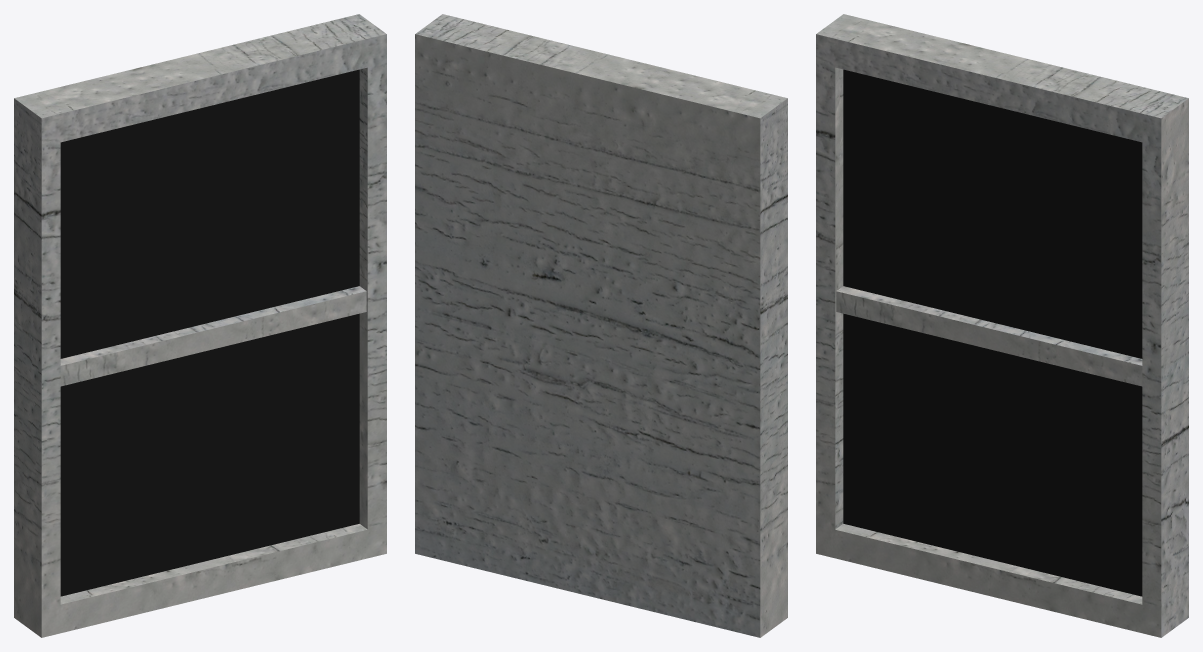
The model's file is window3.FBX.
The picture shows the model from 3 angles, left to right: view 1: azimuth 30°, elevation 25°; view 2: azimuth 150°, elevation 25°; view 3: azimuth 330°, elevation 25°; orthographic projection.
Visible parts, largest first — view 1: Box004, Box001; view 2: Box001; view 3: Box004, Box001.
Part boxes in pixels (bbox=[...]): Box004: bbox=[60, 69, 359, 596]; Box001: bbox=[14, 14, 386, 637]; Box001: bbox=[415, 14, 787, 637]; Box004: bbox=[843, 69, 1142, 596]; Box001: bbox=[816, 14, 1188, 637].
Size of the model in its own units: 99.76 by 143 by 13.78.
2 materials, 1 textured.
